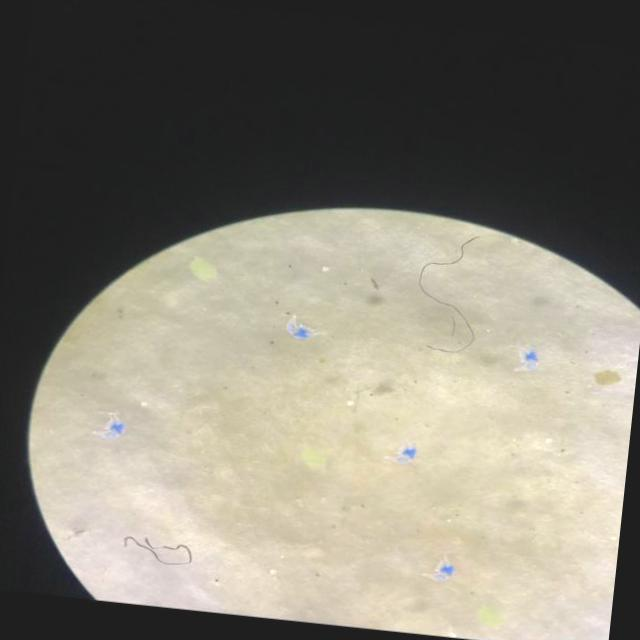fiber: (419, 235, 481, 352), (122, 536, 191, 565)
film: (94, 413, 122, 438), (515, 349, 539, 370), (423, 571, 453, 581), (286, 330, 314, 339), (384, 455, 415, 463)
fragment: (189, 258, 215, 280), (301, 447, 324, 468), (477, 606, 500, 626), (594, 369, 619, 386)
pellet: (268, 568, 277, 574), (321, 266, 328, 271), (545, 437, 552, 442), (141, 401, 147, 406), (347, 400, 352, 405)
